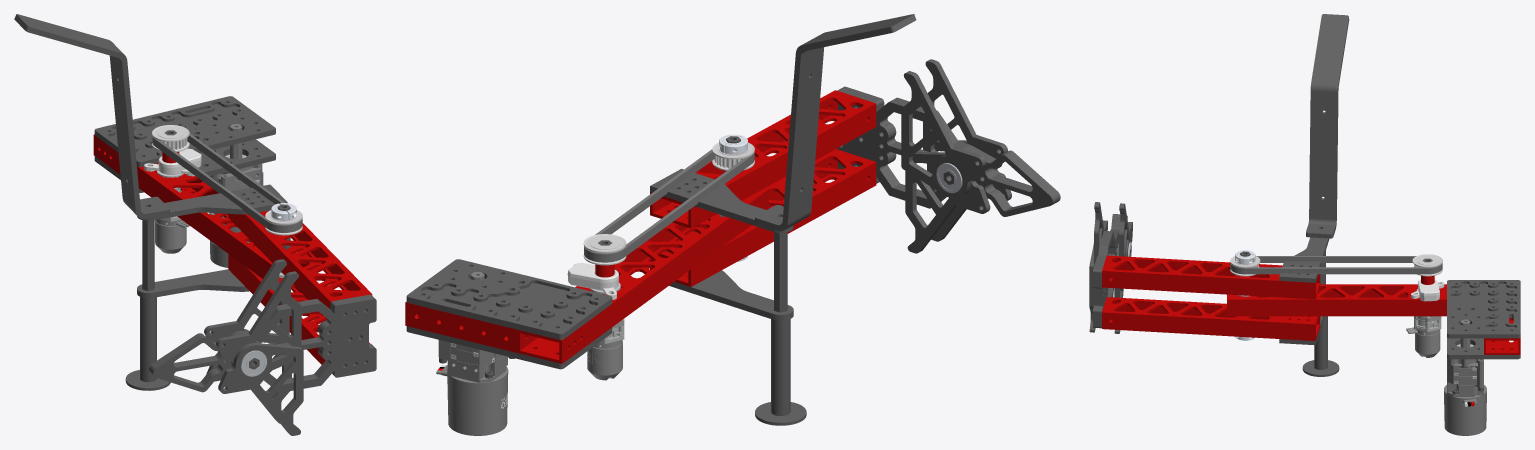
Rendered from robot-2025-climber.glb.
3 renders of one model, left to right at view 1: azimuth 30°, elevation 25°; view 2: azimuth 150°, elevation 25°; view 3: azimuth 270°, elevation 25°, orthographic. The views are drawn at different scales.
Visible parts, largest first — view 1: ClimberFingers (×4), ClimberBody (×2), RotatingTube (×2), MotorMountingPlate, Part 19, MainTube, LeveragePlates (×2), 125t 5mm Belt, BackupPlate, ShorterSpacer, 24t 9mm Wide 1/2" Hex Bore Double Flange 5mm HTD Aluminum Pu (×2), NEO 550 Motor (REV-21-1651) (+6 smaller); view 2: RotatingTube (×2), ClimberFingers (×4), MotorMountingPlate, MainTube, ClimberBody (×2), Part 19, LeveragePlates (×2), NEO Brushless Motor (REV-21-1650), 125t 5mm Belt, BottomTube, ShorterSpacer, 24t 9mm Wide 1/2" Hex Bore Double Flange 5mm HTD Aluminum Pu (×2) (+7 smaller); view 3: RotatingTube (×2), Part 19, MainTube, MotorMountingPlate, 125t 5mm Belt, NEO Brushless Motor (REV-21-1650), ClimberBody (×2), LeveragePlates, ClimberFingers (×2), BackupPlate, NEO 550 Motor (REV-21-1651), BottomTube (+4 smaller).
Part boxes in pixels (x1,y1,x2,y2): ClimberFingers (×4): [204, 259, 303, 435]; ClimberBody (×2): [149, 294, 376, 392]; RotatingTube (×2): [228, 210, 372, 364]; MotorMountingPlate: [94, 96, 275, 167]; Part 19: [14, 14, 169, 219]; MainTube: [93, 134, 313, 283]; LeveragePlates (×2): [137, 184, 287, 298]; 125t 5mm Belt: [152, 133, 302, 232]; BackupPlate: [94, 139, 275, 192]; ShorterSpacer: [140, 297, 156, 382]; 24t 9mm Wide 1/2" Hex Bore Double Flange 5mm HTD Aluminum Pu (×2): [152, 125, 302, 235]; NEO 550 Motor (REV-21-1651): [155, 219, 190, 253]; RotatingTube (×2): [650, 90, 876, 286]; ClimberFingers (×4): [901, 59, 1011, 253]; MotorMountingPlate: [406, 259, 612, 339]; MainTube: [517, 188, 768, 363]; ClimberBody (×2): [836, 86, 1060, 216]; Part 19: [755, 14, 916, 231]; LeveragePlates (×2): [650, 168, 793, 320]; NEO Brushless Motor (REV-21-1650): [436, 365, 508, 435]; 125t 5mm Belt: [584, 149, 754, 262]; BottomTube: [405, 301, 517, 352]; ShorterSpacer: [771, 319, 790, 415]; 24t 9mm Wide 1/2" Hex Bore Double Flange 5mm HTD Aluminum Pu (×2): [583, 142, 754, 265]; RotatingTube (×2): [1102, 255, 1320, 340]; Part 19: [1306, 14, 1349, 238]; MainTube: [1227, 284, 1446, 316]; MotorMountingPlate: [1447, 280, 1520, 338]; 125t 5mm Belt: [1230, 256, 1442, 274]; NEO Brushless Motor (REV-21-1650): [1444, 385, 1486, 435]; ClimberBody (×2): [1093, 214, 1127, 328]; LeveragePlates: [1279, 237, 1329, 282]; ClimberFingers (×2): [1094, 202, 1132, 265]; BackupPlate: [1447, 337, 1520, 359]; NEO 550 Motor (REV-21-1651): [1406, 327, 1440, 357]; BottomTube: [1484, 318, 1520, 354].
Bounding box in the file's own units: 0.4251 × 0.4714 × 0.5969.
